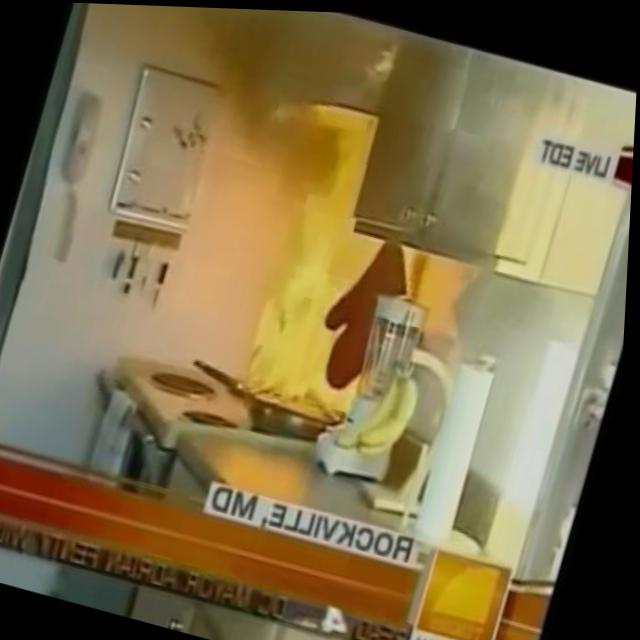fire: (228, 86, 452, 427)
